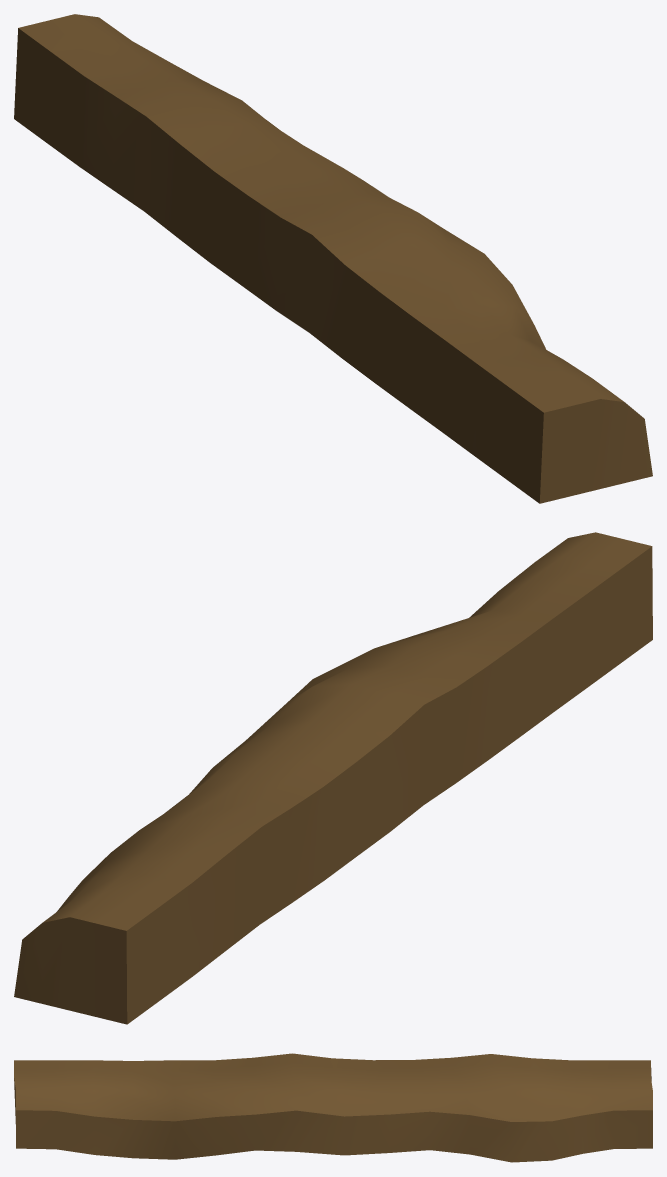
File: CostadoTierra2.fbx
The picture shows the model from 3 angles, top to bottom: view 1: azimuth 30°, elevation 25°; view 2: azimuth 150°, elevation 25°; view 3: azimuth 270°, elevation 25°; orthographic projection. The views are drawn at different scales.
Visible parts, largest first — view 1: Costado; view 2: Costado; view 3: Costado.
Boxes of the visible parts, x1,y1,x2,y2 form: Costado: (14,14,652,503); Costado: (14,532,652,1024); Costado: (14,1053,652,1162).
Size of the model in its own units: 912 by 703 by 5647.
